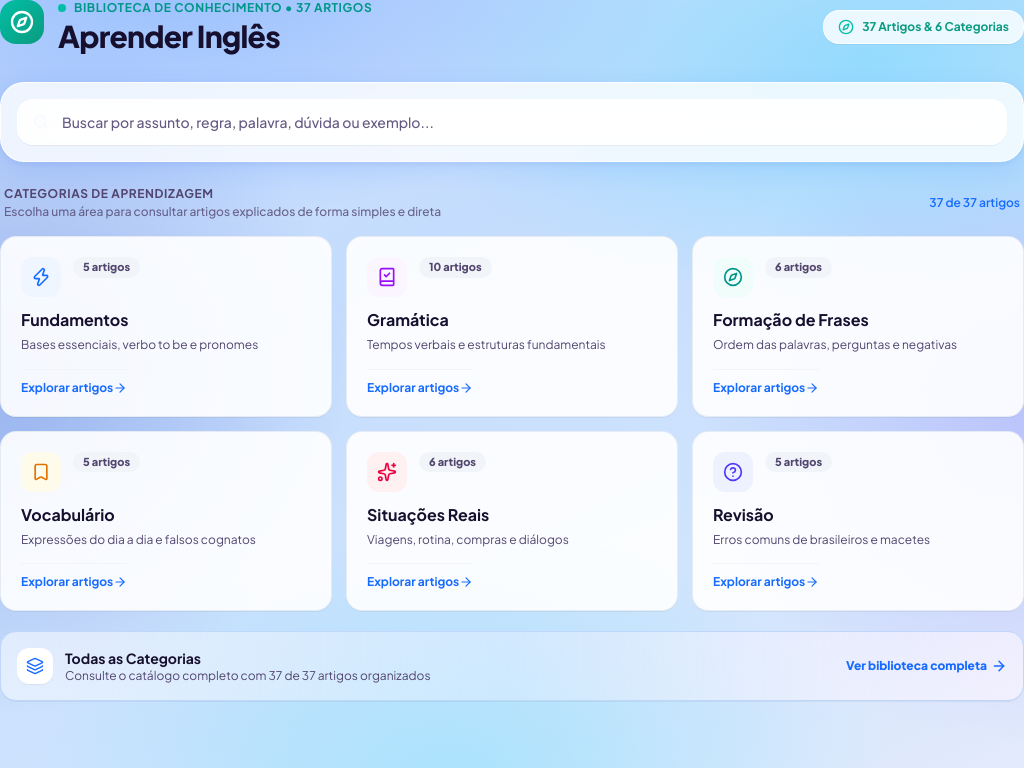
Scenario: LearningLibraryView Component Tests › displays empty state when search returns no matches and allows clearing
The image size is (1024, 768).
Type "termo-inexistente-xyz123" into the search field with placeholder "Buscar por assunto, regra, palavra, dúvida ou exemplo..." at (512, 122), box [17,99,1007,145]
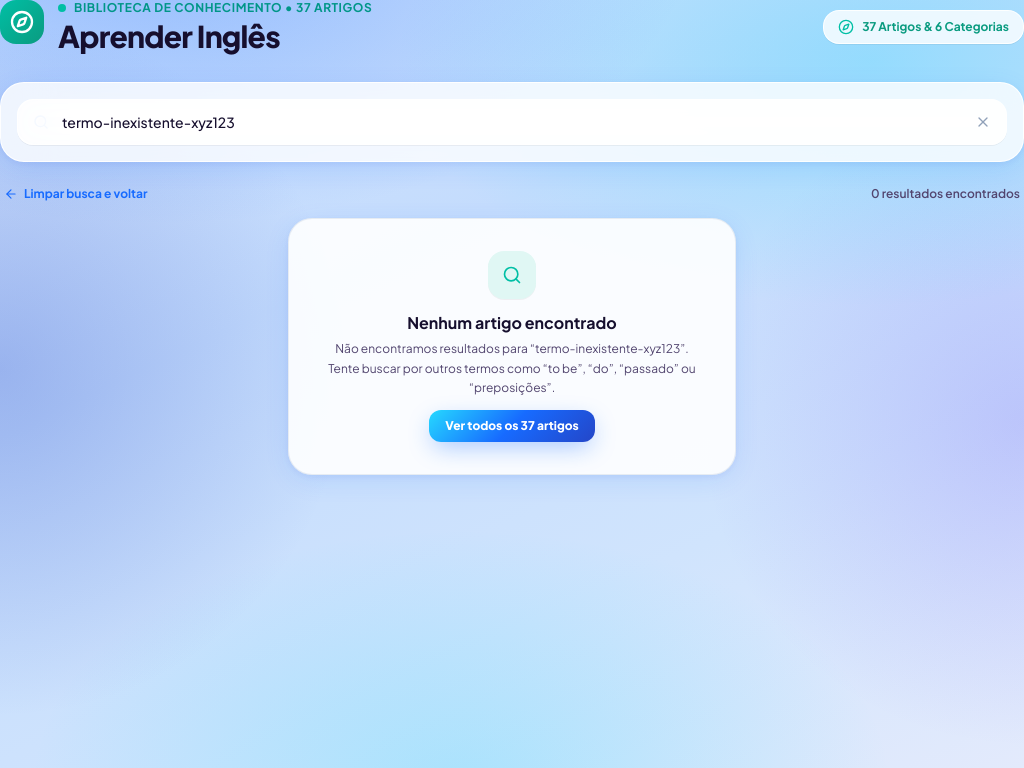
Result: the heading "Nenhum artigo encontrado" is shown at [407,312,617,333]
Click the button "Ver todos os 37 artigos" at (512, 426), box [429,410,595,442]
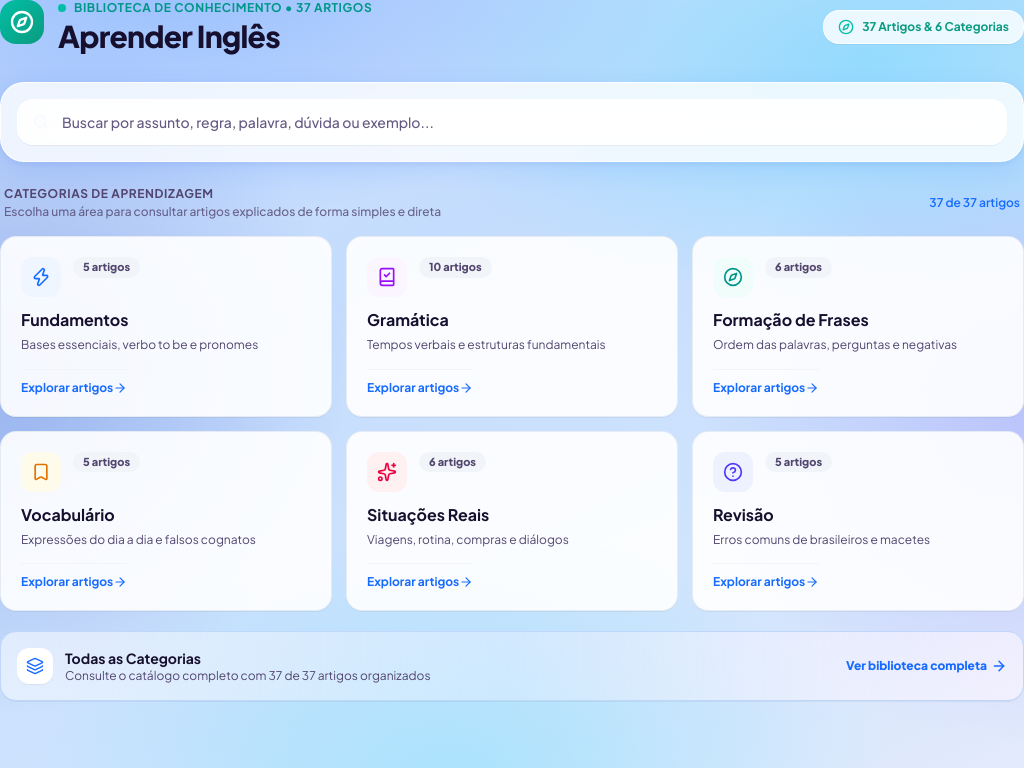
Result: the heading "Categorias de Aprendizagem" is shown at [4,186,214,201]
